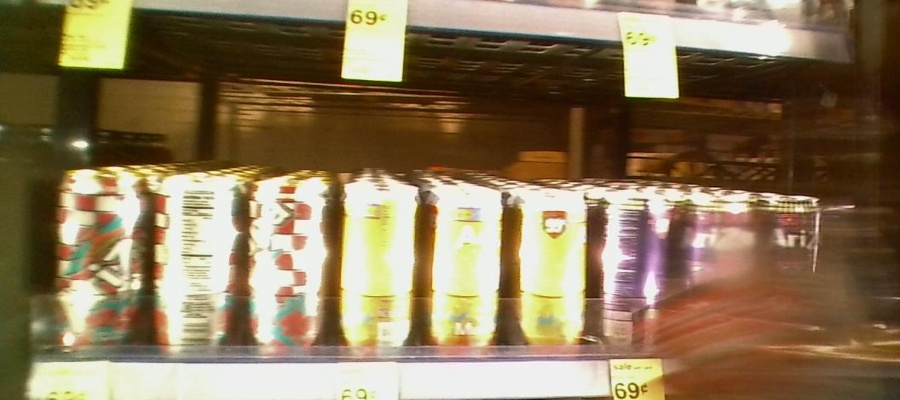bottle: (49, 157, 147, 351), (243, 162, 332, 358), (152, 159, 239, 354), (335, 169, 423, 356), (594, 161, 678, 355), (508, 169, 592, 356), (426, 166, 506, 347), (681, 169, 753, 358), (755, 177, 824, 363)
